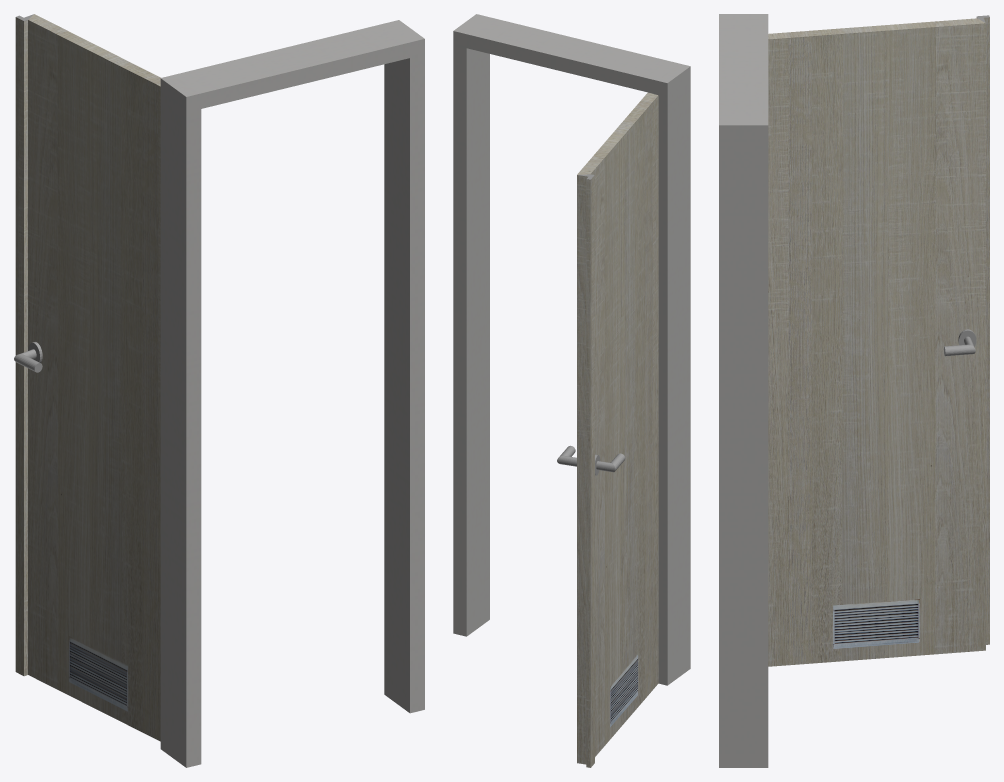
The model's file is door_70_open.dae.
3 views of the same model, side by side, from view 1: azimuth 30°, elevation 25°; view 2: azimuth 150°, elevation 25°; view 3: azimuth 270°, elevation 25° (orthographic). The views are drawn at different scales.
Visible parts, largest first — view 1: dvere_90, futra_70; view 2: dvere_90, futra_70; view 3: dvere_90, futra_70.
Boxes of the visible parts, left/top/right/bottom form: dvere_90: left=14, top=14, right=160, bottom=741; futra_70: left=160, top=20, right=424, bottom=767; dvere_90: left=557, top=92, right=658, bottom=767; futra_70: left=453, top=14, right=690, bottom=685; dvere_90: left=768, top=15, right=989, bottom=666; futra_70: left=719, top=14, right=768, bottom=767.
Size of the model in its own units: 0.9483 by 0.8217 by 2.15.
Materials: 3 (2 with a texture image).
